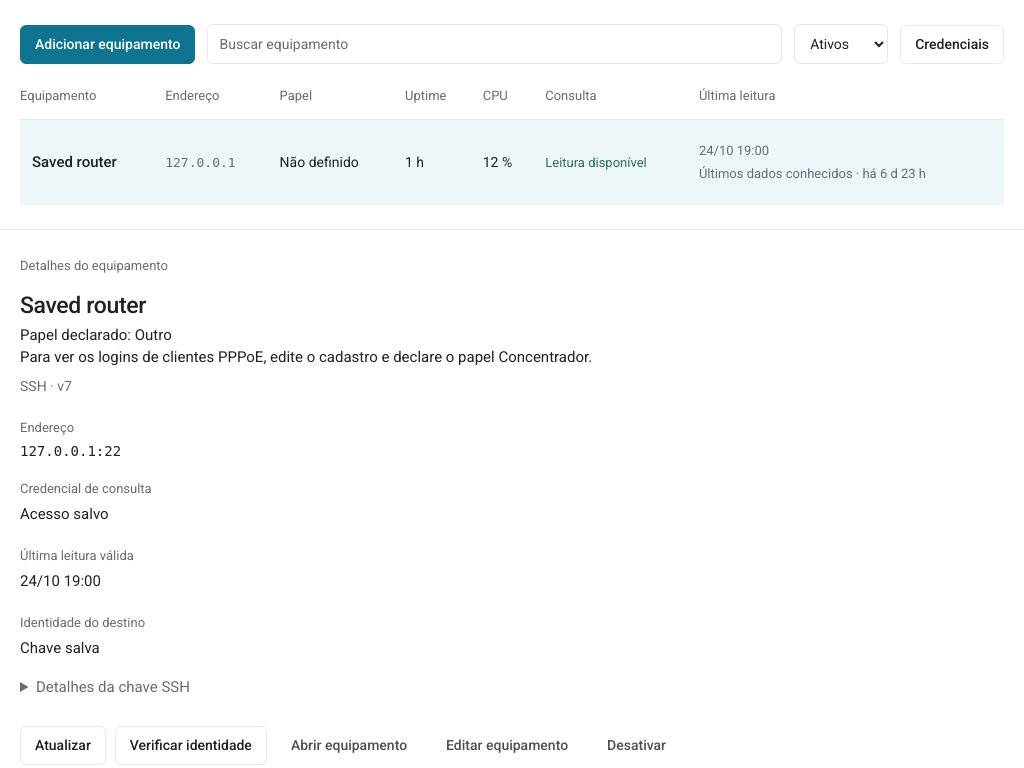
Test: successful query automatically opens full result without a second action
The image size is (1024, 768).
Check: the heading "Saved router" is shown, box [20,292,146,319]
Click the button "Atualizar" at {"x": 63, "y": 746}, box [20,726,106,765]
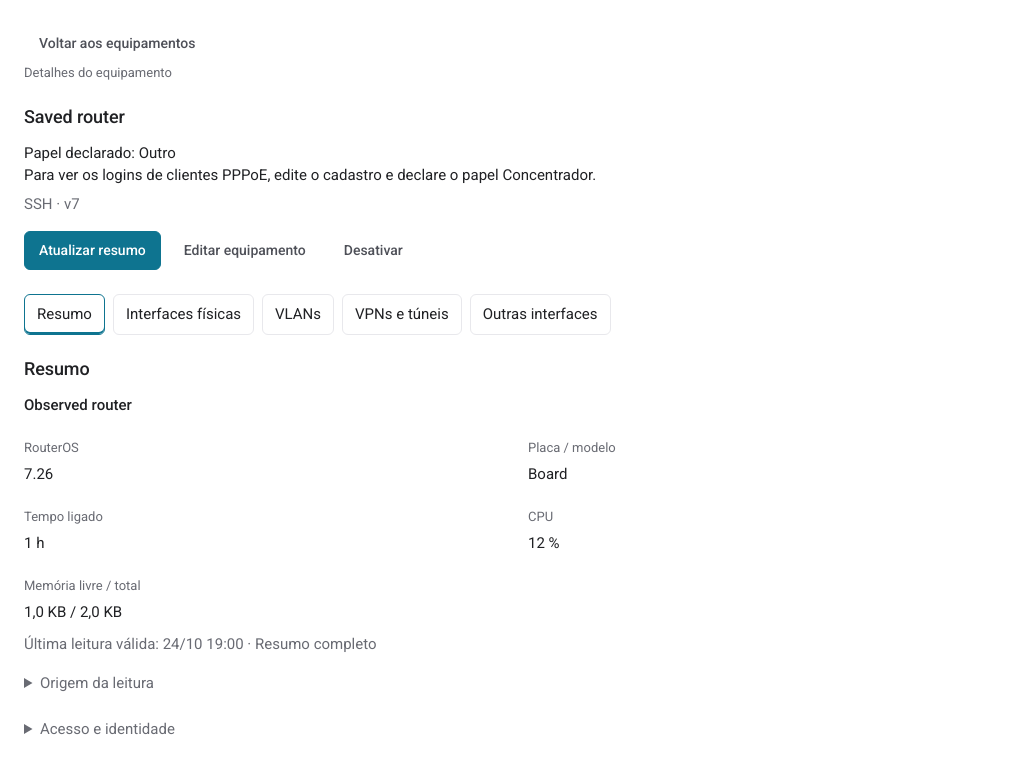
Click the tab "Interfaces físicas" at {"x": 183, "y": 314}, box [113,294,254,334]
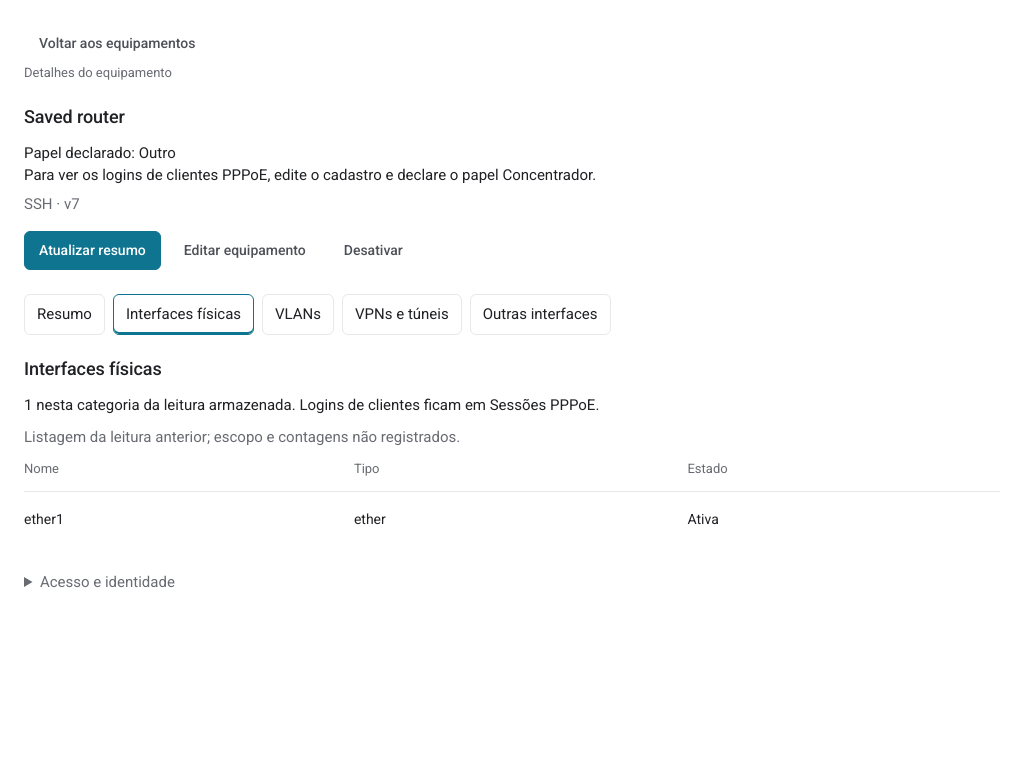
Check: the text "ether1" is shown, box [24,492,344,547]
